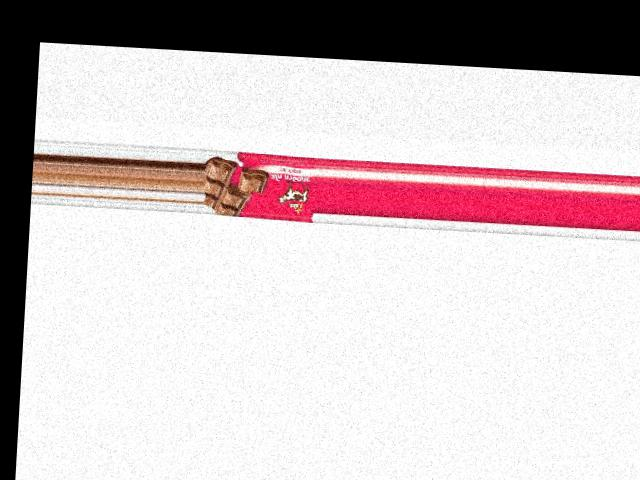chocolate: (203, 150, 318, 221)
